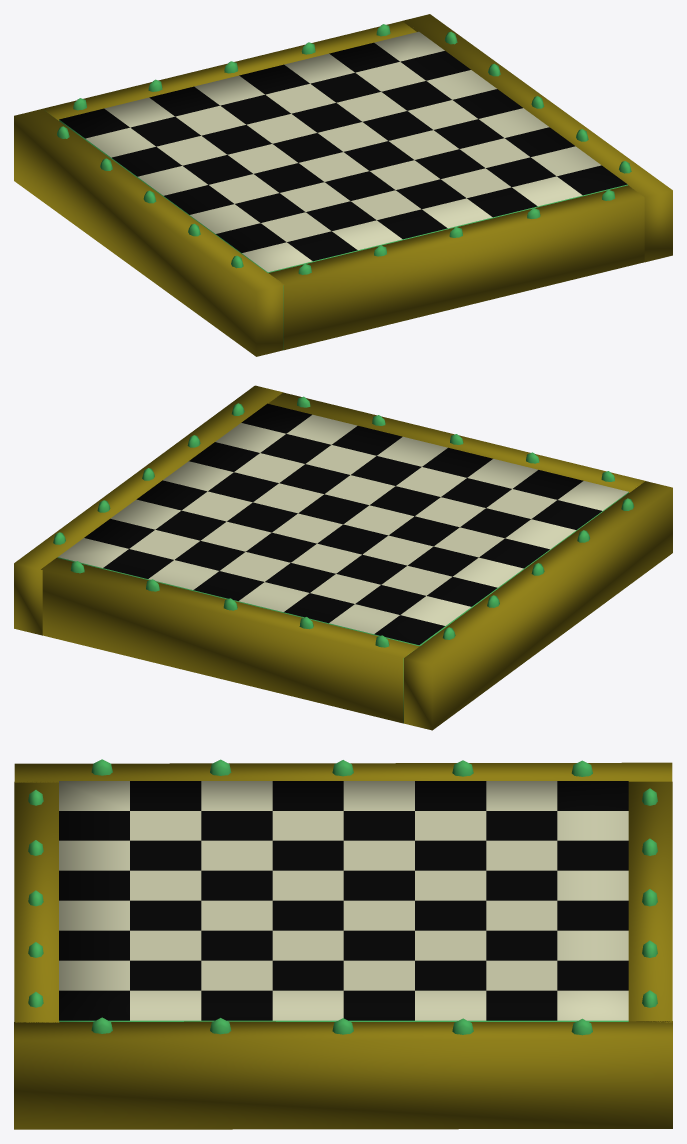
The model's file is Chessboard.fbx.
3 views of the same model, one above another, from view 1: azimuth 30°, elevation 25°; view 2: azimuth 150°, elevation 25°; view 3: azimuth 270°, elevation 25° (orthographic). The views are drawn at different scales.
Parts seen in each view (by area): view 1: Chessboard; view 2: Chessboard; view 3: Chessboard.
Boxes of the visible parts, x1,y1,x2,y2 form: Chessboard: (14,14,672,356); Chessboard: (14,385,672,730); Chessboard: (14,759,672,1129).
Size of the model in its own units: 1.69 by 0.3 by 1.69.
